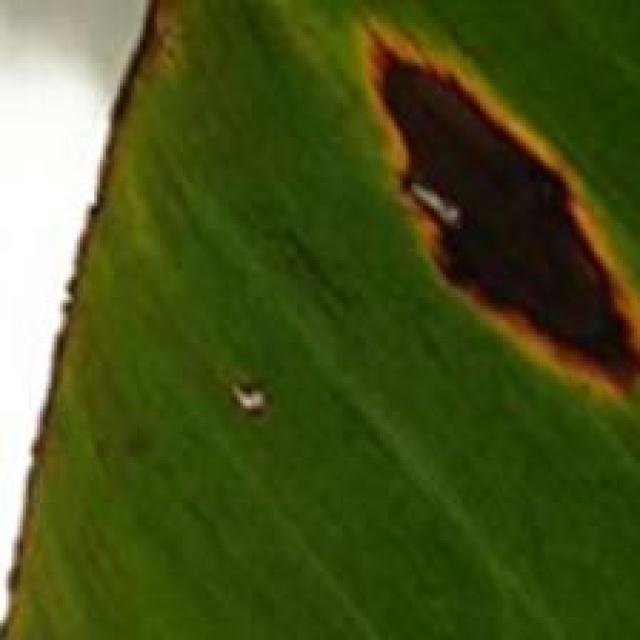Bacterial_spot: (357, 6, 640, 410), (60, 0, 169, 297), (0, 291, 80, 636), (212, 361, 297, 428)
